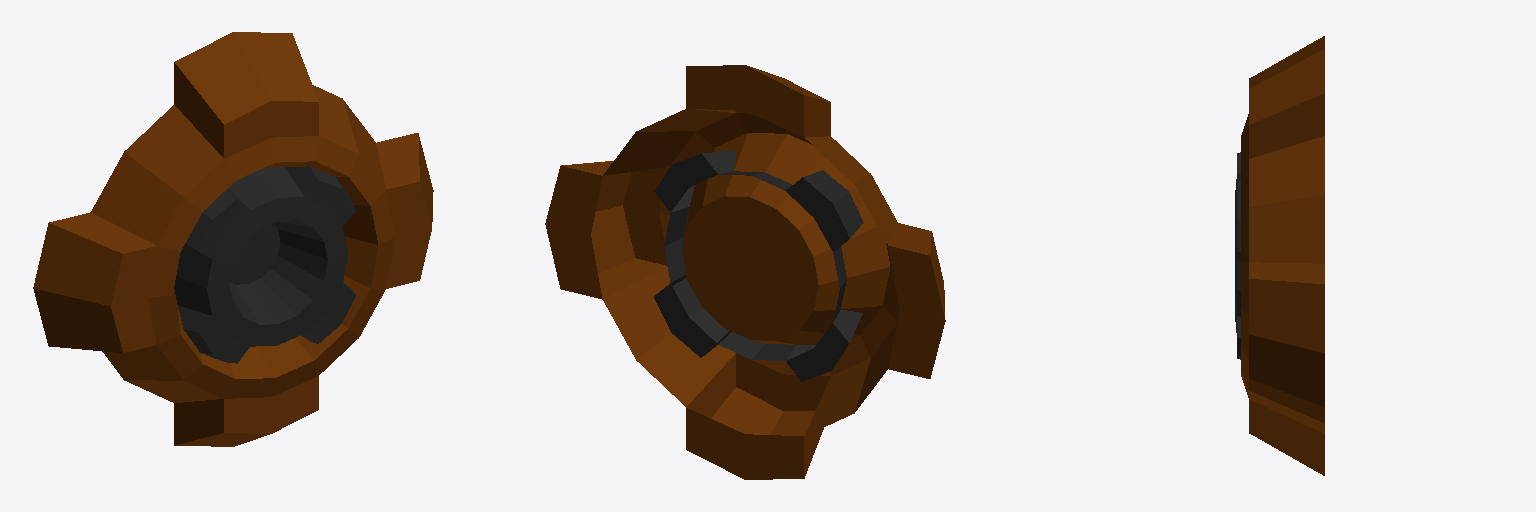
Rendered from Details_Output.obj.
The picture shows the model from 3 angles: view 1: azimuth 30°, elevation 25°; view 2: azimuth 150°, elevation 25°; view 3: azimuth 270°, elevation 25°; orthographic projection.
Visible parts, largest first — view 1: Details_Output_Cube.059; view 2: Details_Output_Cube.059; view 3: Details_Output_Cube.059.
Part boxes in pixels (x1,y1,x2,y2): Details_Output_Cube.059: (33, 32, 433, 446); Details_Output_Cube.059: (545, 65, 945, 479); Details_Output_Cube.059: (1235, 36, 1324, 475).
Bounding box in the file's own units: 0.2997 × 0.297 × 0.0587.